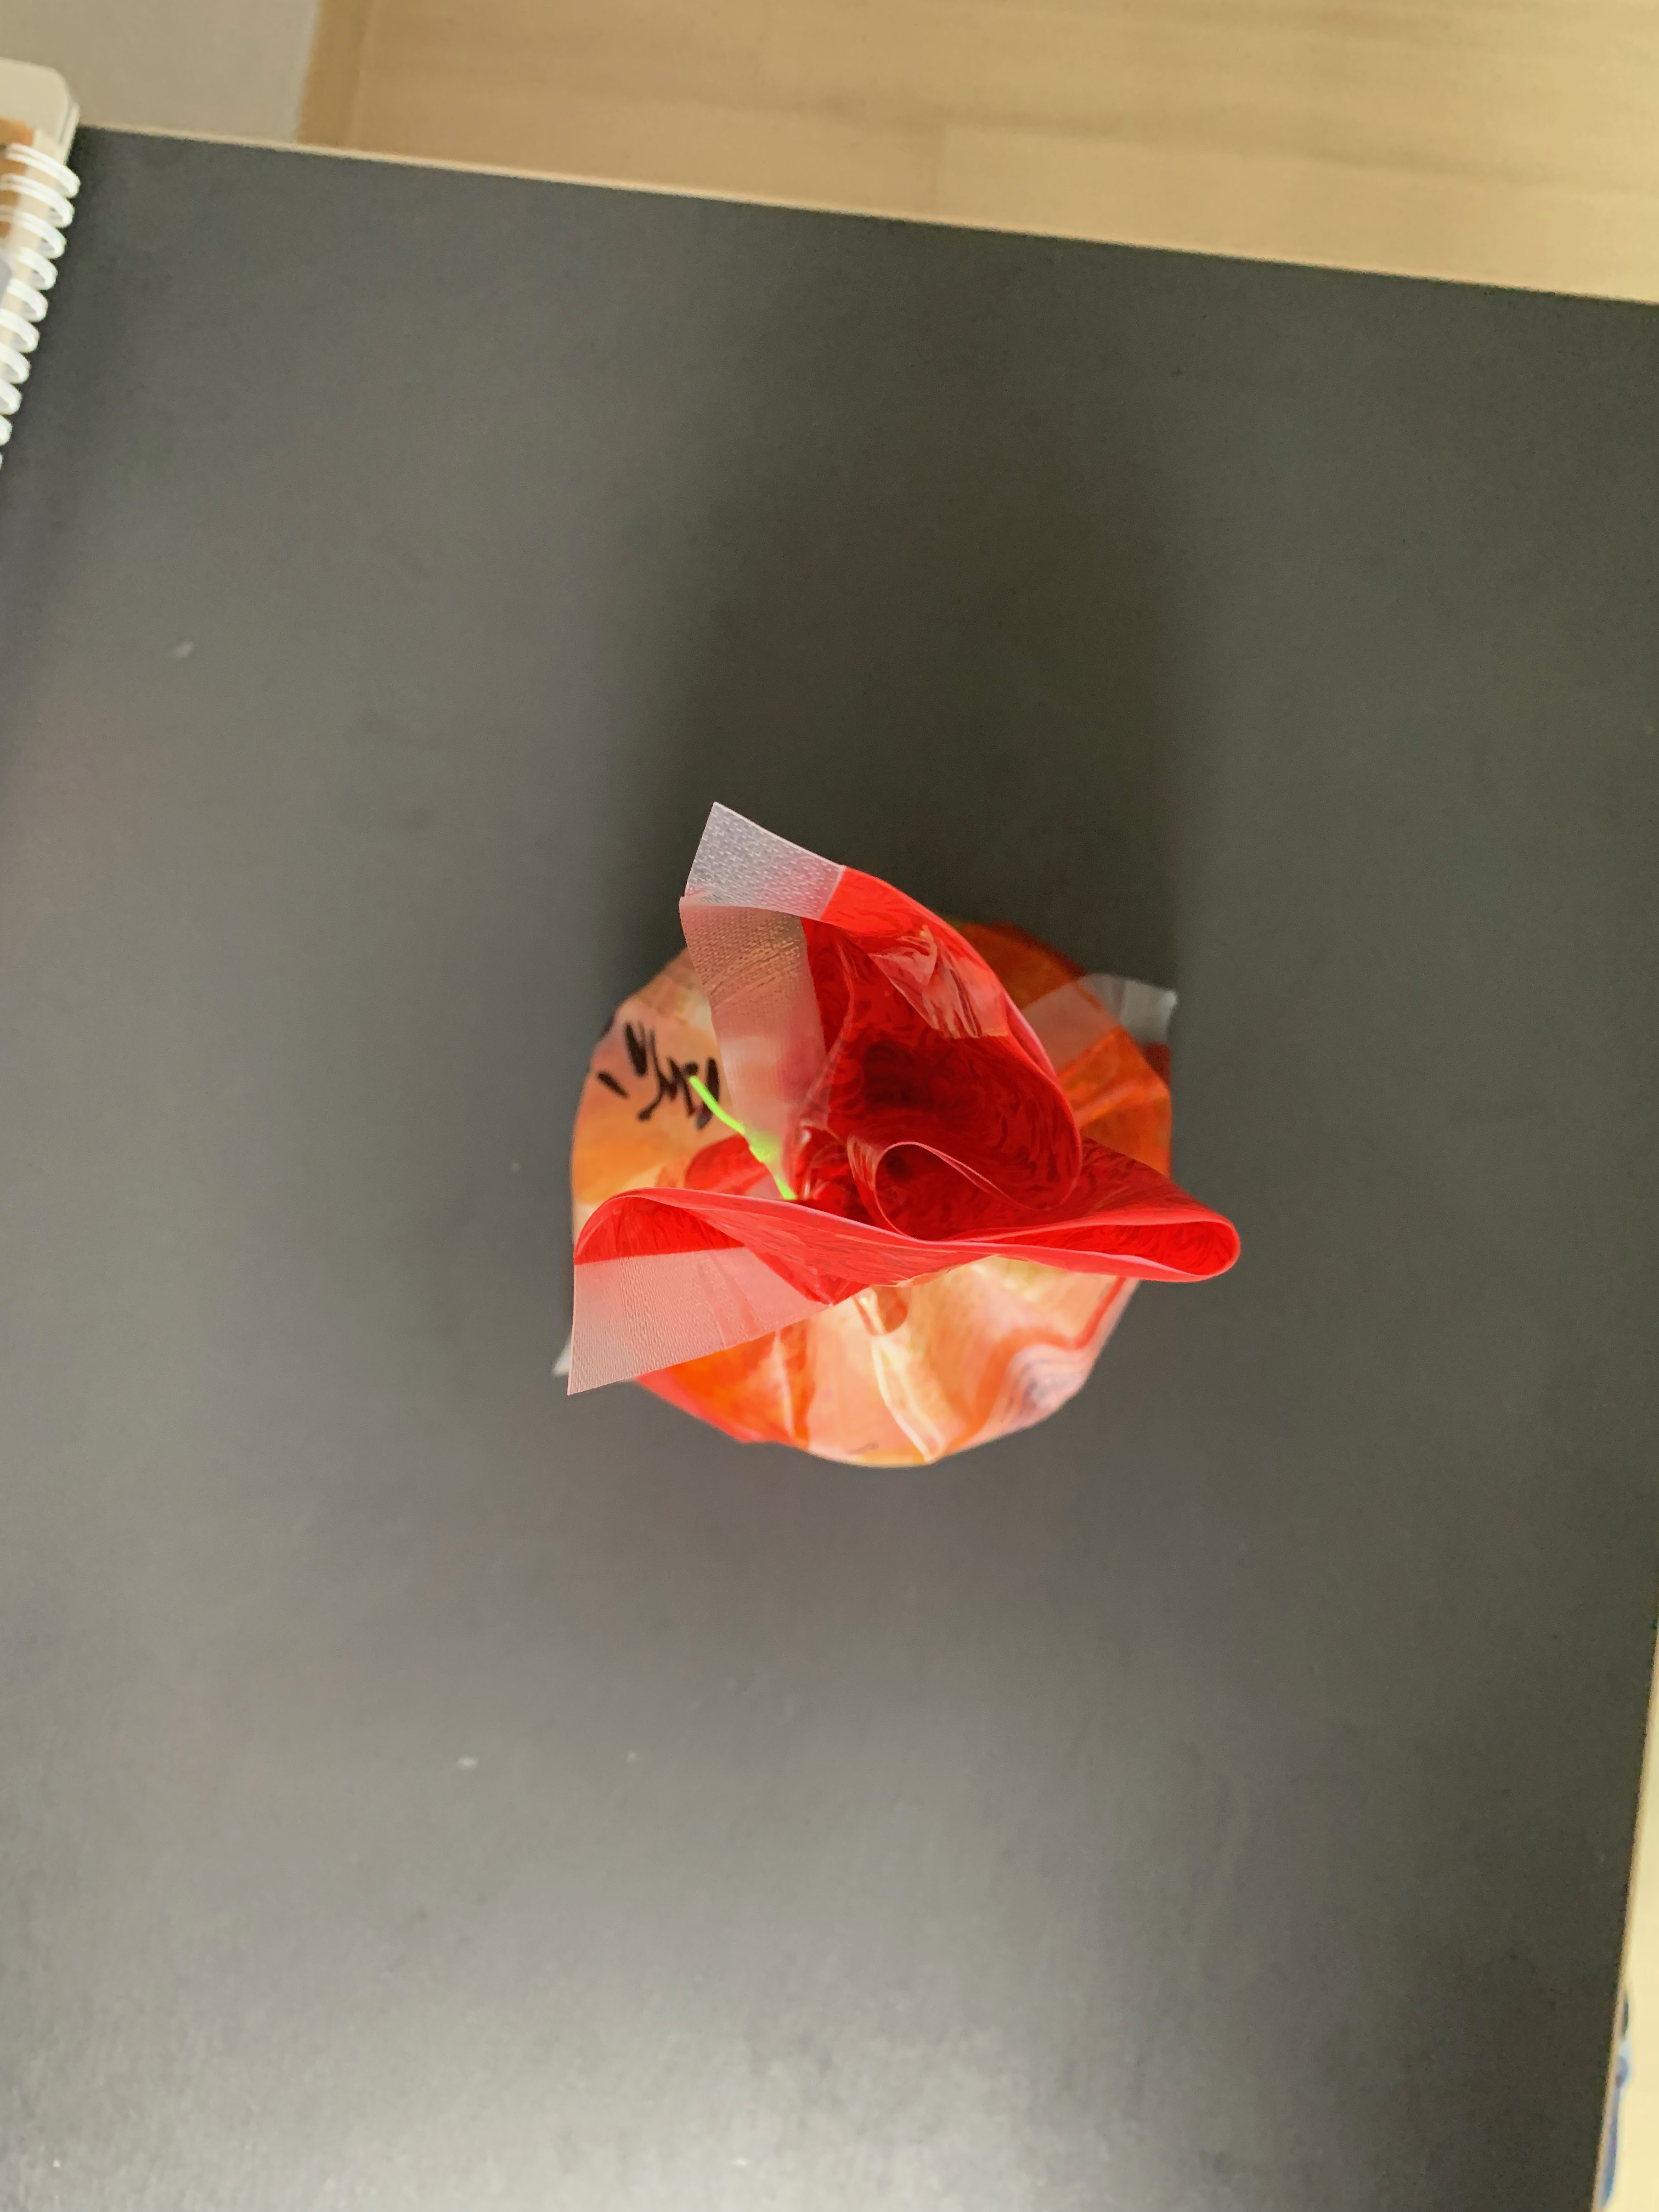kimchi: (575, 867, 1241, 1468)
